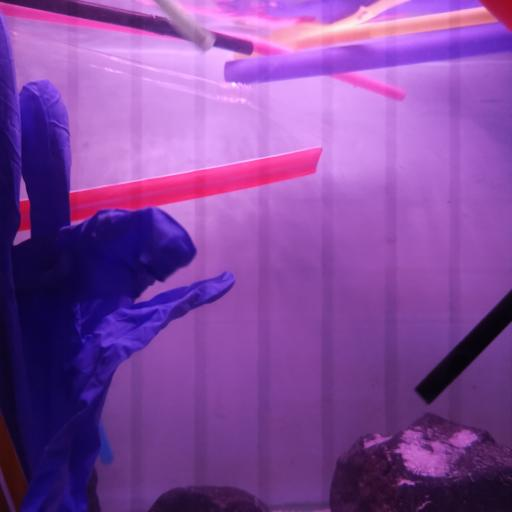glove: (0, 15, 235, 512)
plastic_straw: (0, 0, 406, 103), (16, 143, 322, 231), (7, 30, 259, 108), (223, 21, 512, 84), (0, 0, 254, 55), (285, 0, 512, 56), (413, 287, 512, 407), (153, 0, 216, 51)
